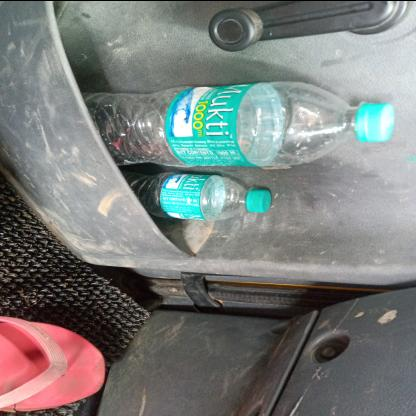bottle: (191, 59, 311, 299), (122, 86, 188, 206)
